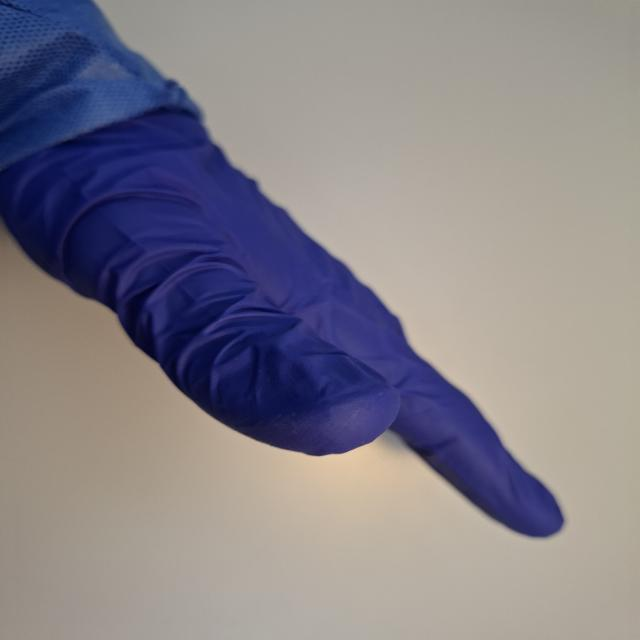glove_on: (2, 94, 572, 545)
